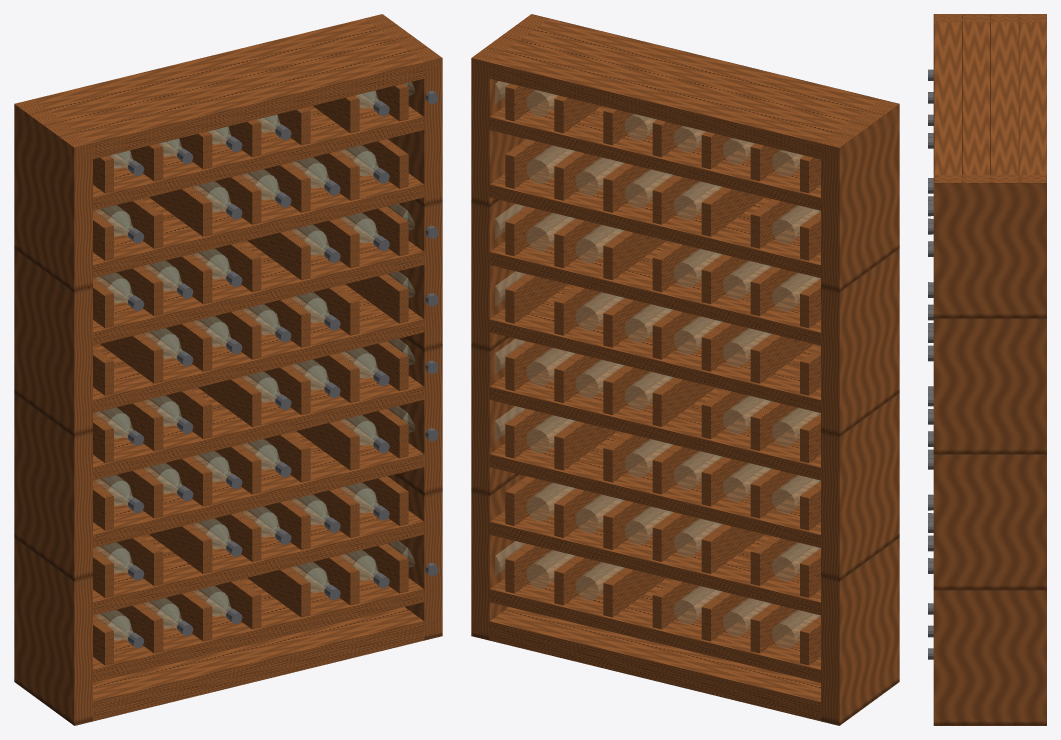
Rendered from wine-rack.glb.
The picture shows the model from 3 angles, left to right: view 1: azimuth 30°, elevation 25°; view 2: azimuth 150°, elevation 25°; view 3: azimuth 270°, elevation 25°; orthographic projection. The views are drawn at different scales.
Visible parts, largest first — view 1: wine-rack-timber, wine-rack-glass, wine-rack-dark; view 2: wine-rack-timber, wine-rack-glass; view 3: wine-rack-timber, wine-rack-dark.
Boxes of the visible parts, bbox=[...] form: wine-rack-timber: bbox=[14, 14, 442, 725]; wine-rack-glass: bbox=[93, 82, 414, 640]; wine-rack-dark: bbox=[128, 91, 438, 648]; wine-rack-timber: bbox=[471, 14, 899, 725]; wine-rack-glass: bbox=[495, 81, 820, 648]; wine-rack-timber: bbox=[933, 14, 1046, 725]; wine-rack-dark: bbox=[928, 69, 933, 659].
Bounding box in the file's own units: 1.2 × 1.8 × 0.357.
3 materials, 1 textured.
